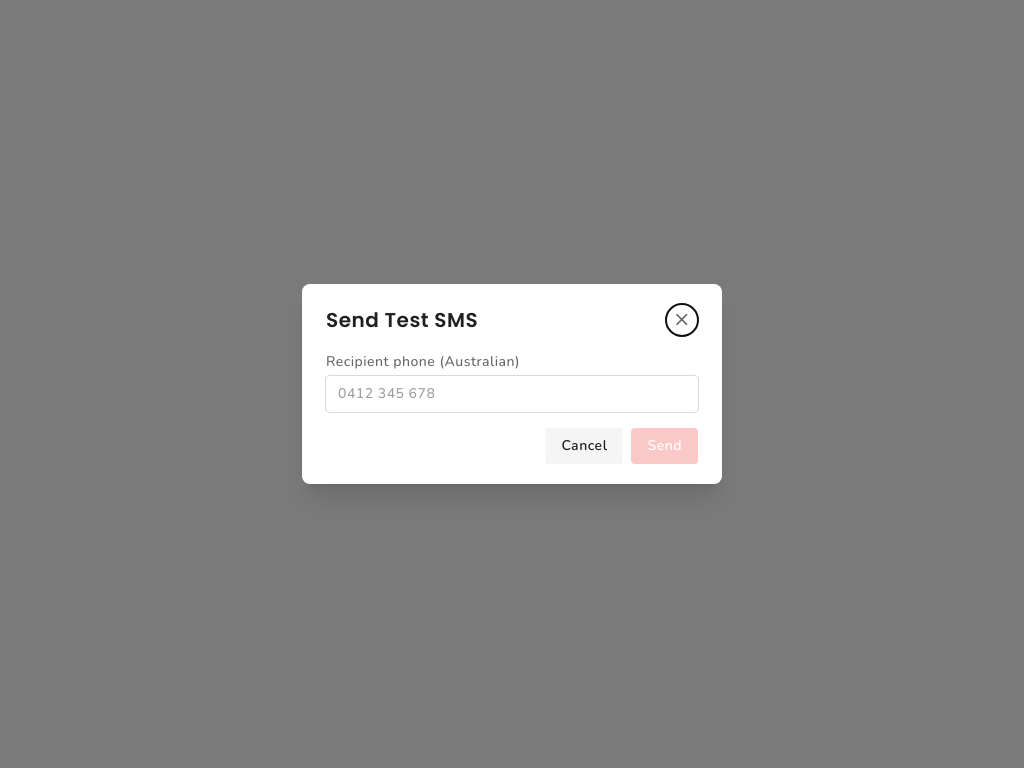
SendTestSmsDialog › shows success snackbar with masked phone then closes on valid send
Type "0412345678" into the field with placeholder "0412 345 678" at (512, 394), box [326,376,698,412]
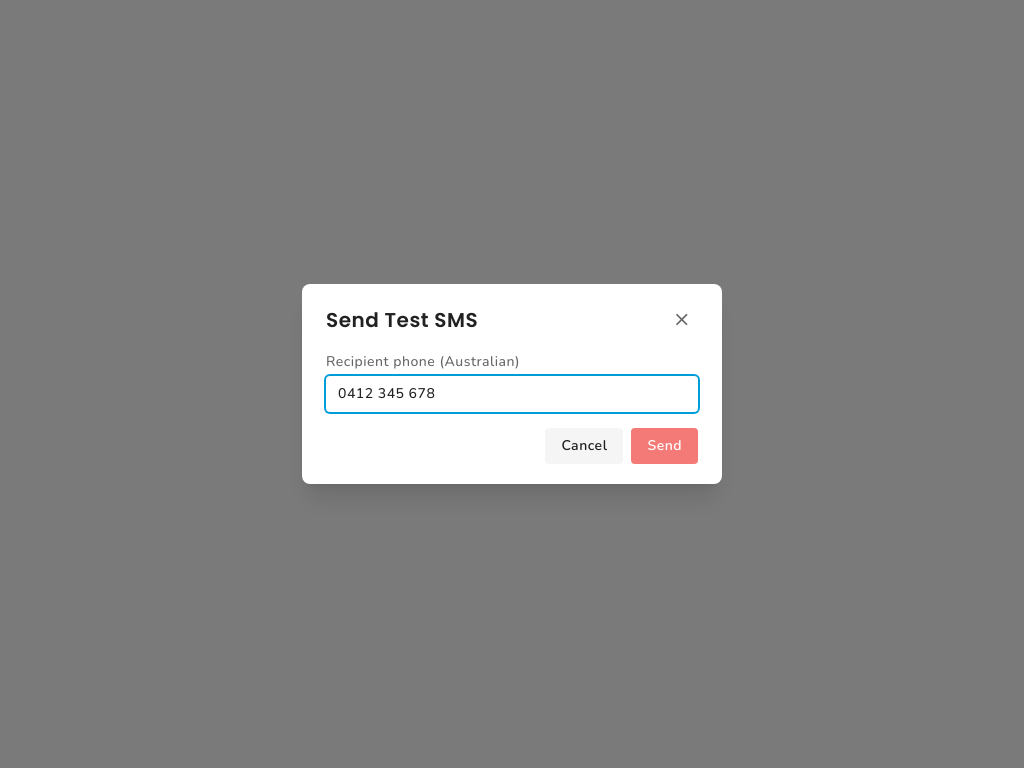
Click the button "Send" at (665, 446), box [631,428,698,464]
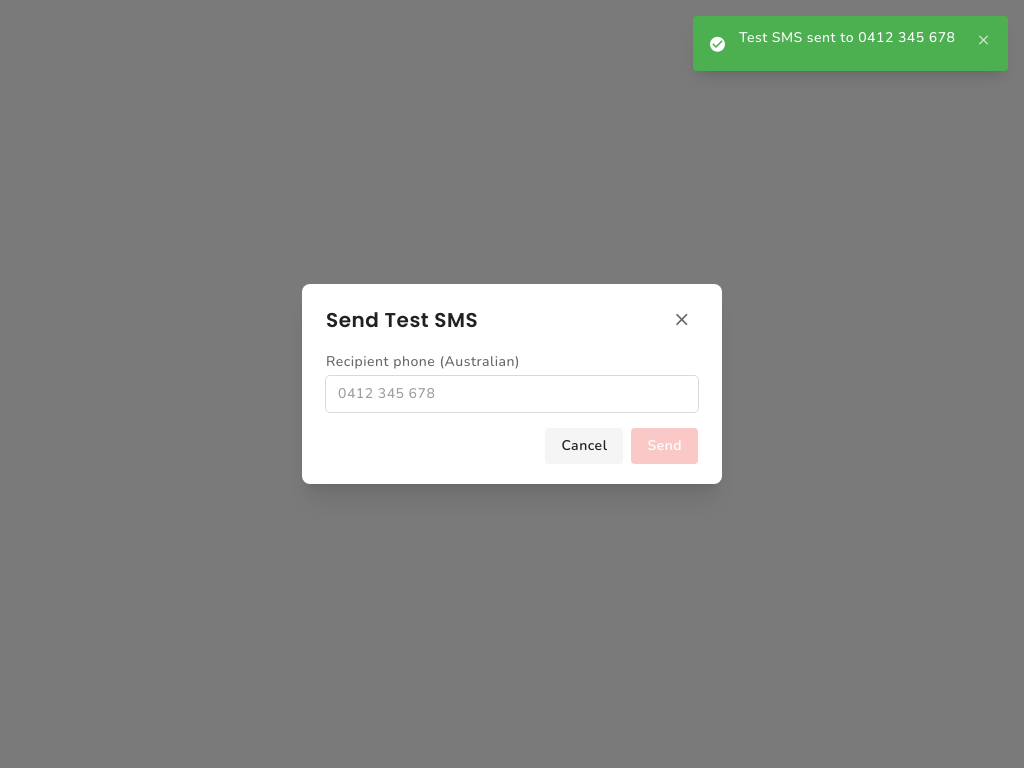
Expected: the text "Test SMS sent to 0412 345 678" is shown, [739,28,956,48]
